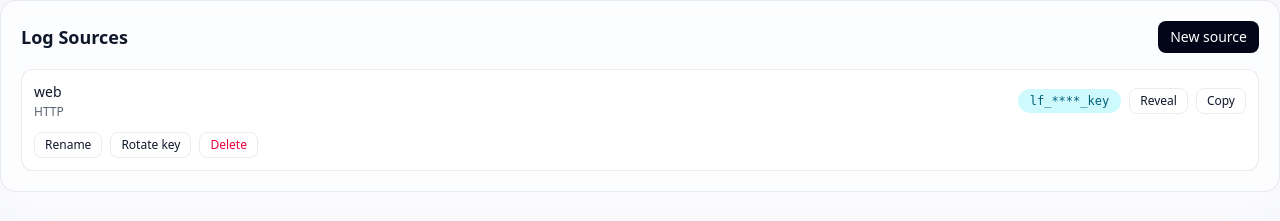
SourcesPanel: key hint and reveal in the list › shows an error and keeps the hint when the reveal fails with 403
Click the button with aria-label "Reveal API key of web". click: [1159, 101]
box: [1129,88,1188,114]
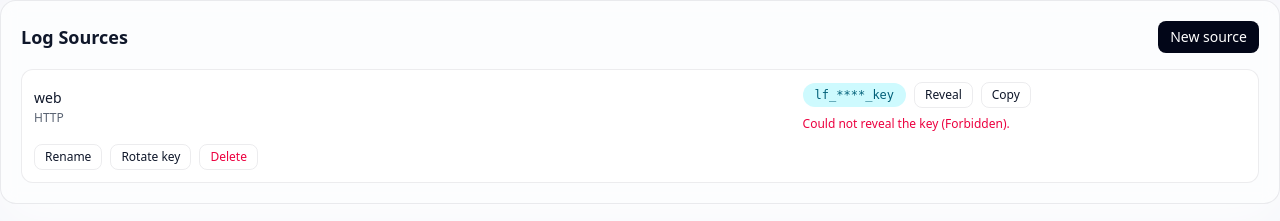
Expected: the text with test id "source-api-key" reads "lf_****_key", [815,88,894,102]
Now the message shows "Could not reveal the key", box [803,115,1010,132]
Now the message shows "Forbidden", box [803,115,1010,132]
# A retry clears the stale error and succeeds.
Click the button with aria-label "Reveal API key of web". click: [943, 95]
box: [914,82,973,108]
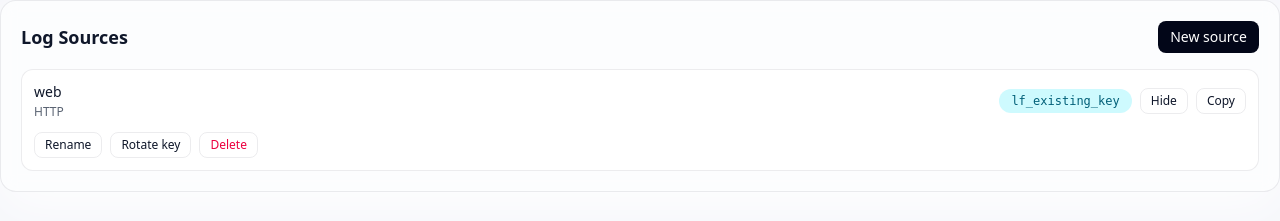
Now the button with aria-label "Hide API key of web" is shown, box [1140,88,1188,114]
Now the message "Could not reveal the key (Forbidden)." is gone
